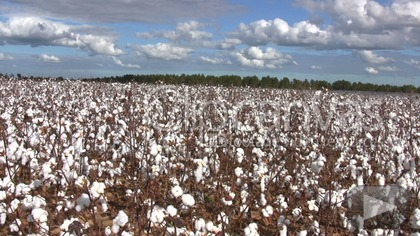cotton: (1, 42, 413, 236)
